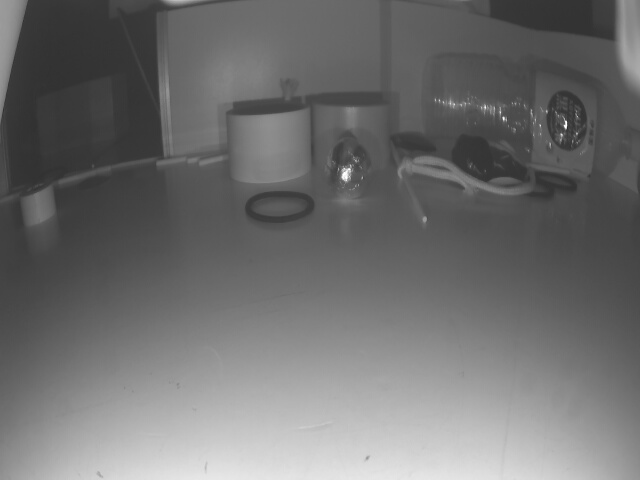Dead: (451, 132, 489, 182)
Live: (325, 138, 372, 202)
